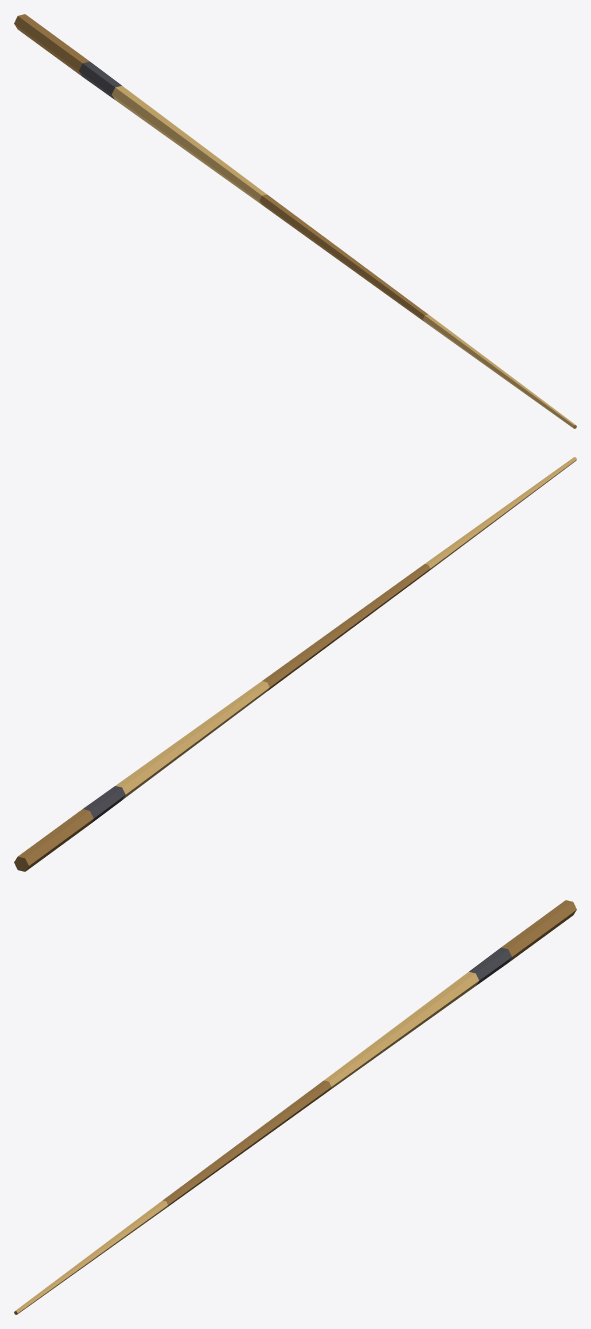
The model's file is SM_Villager_FishingRod.fbx.
3 renders of one model, top to bottom at view 1: azimuth 30°, elevation 25°; view 2: azimuth 150°, elevation 25°; view 3: azimuth 330°, elevation 25°, orthographic.
Visible parts, largest first — view 1: SM_Villager_FishingRod; view 2: SM_Villager_FishingRod; view 3: SM_Villager_FishingRod.
Part boxes in pixels (x1=…): SM_Villager_FishingRod: x1=14, y1=14, x2=576, y2=428; SM_Villager_FishingRod: x1=14, y1=457, x2=576, y2=871; SM_Villager_FishingRod: x1=14, y1=900, x2=576, y2=1314.
Bounding box in the file's own units: 0.032 × 0.0277 × 2.05.
1 material, 1 textured.
